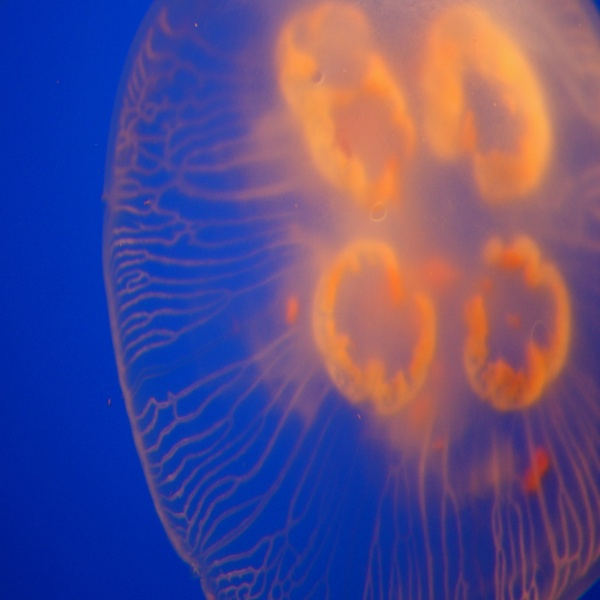Jellyfish: (83, 2, 600, 570)
